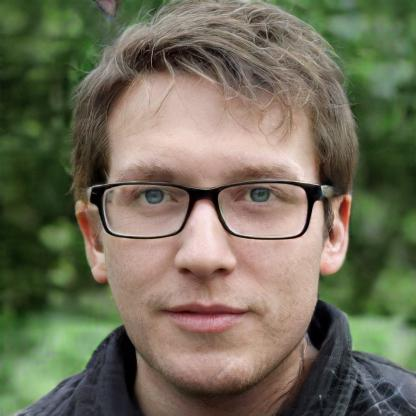glasses: (86, 178, 326, 243)
